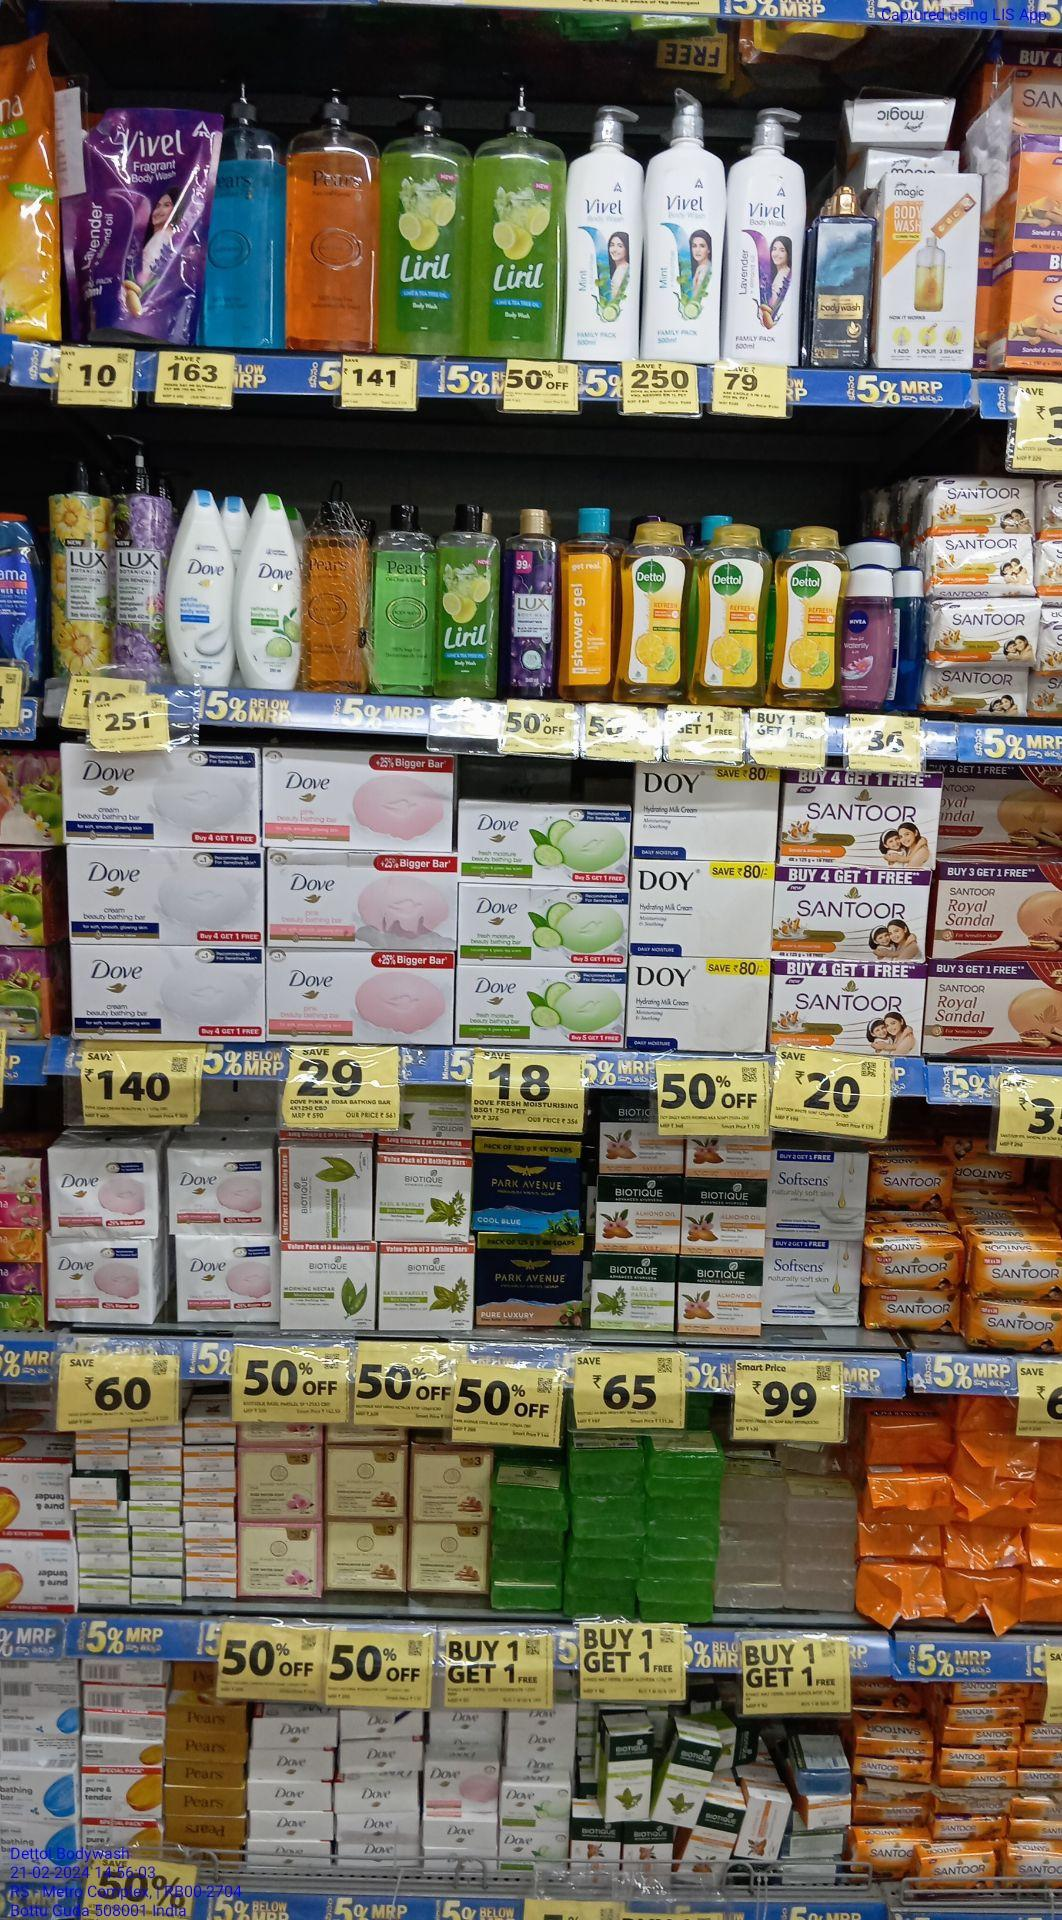Dettol_Bodywash_Refresh: (693, 519, 774, 702), (616, 518, 696, 702), (773, 521, 850, 706)
Dove_Gentle_Exfoliating_Body_Wash_250ML: (165, 488, 233, 687)
Dove_Refreshing_Body_Wash_250ML: (234, 492, 301, 689)
Liril_Lime_and_Tea_Tree_Oil_Body_Wash_250ML: (437, 498, 501, 697)
Lux_Black_Orchid_Scent_and_Juniper_Oil_Body_Wash_245ML: (501, 502, 560, 698)
Pears_Pure_Glycerin_and_Lemon_Flower_Extracts_Body_Wash_250ML: (369, 500, 437, 696)
